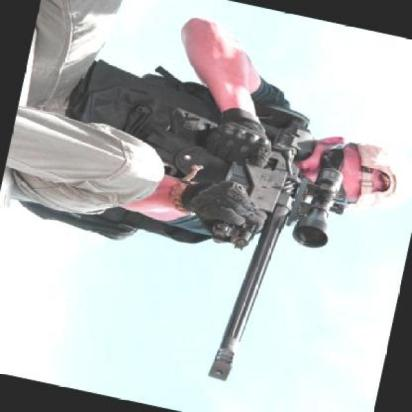Gun: (131, 86, 353, 405)
